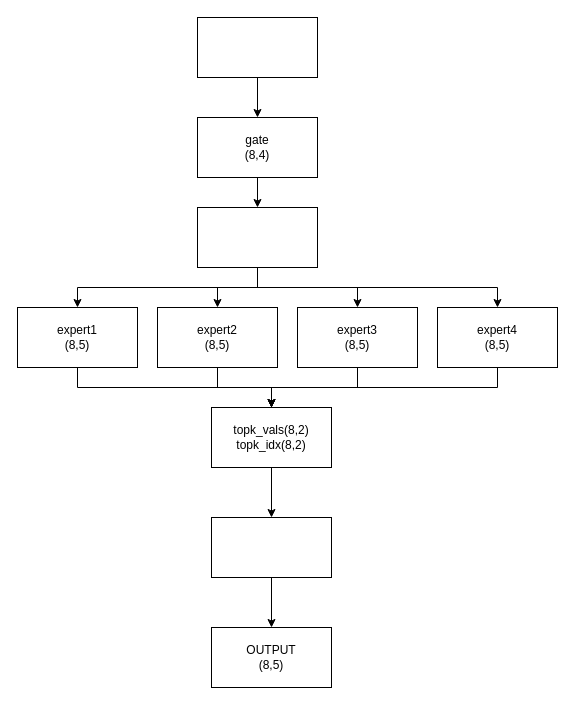
This 575x705 diagram has some shape labels left out. Each missing label, with the box of its shape:
INPUT (8,20): (196, 16, 318, 78)
scores (8,4): (196, 206, 318, 268)
加权求和 （8,5）: (210, 516, 332, 578)
